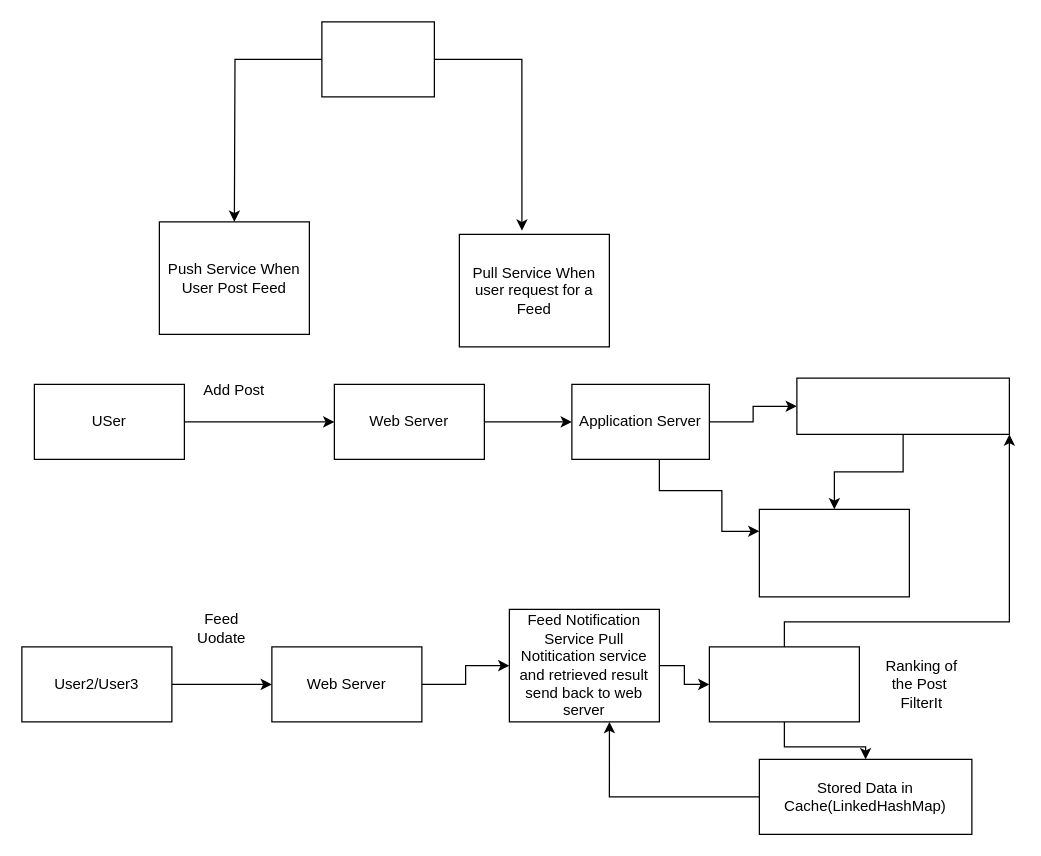
The diagram is 1041 pixels wide and 856 high, and some of its shapes have lost their labels. The box of each missing label's shape, as (x1, y1, x2, y2) in pixels:
DB Which Stores Metadata: (796, 377, 1009, 434)
Feed Notification Service: (321, 21, 434, 97)
New Feed Generation: (708, 646, 859, 722)
Storage Service Stored the data: (758, 508, 909, 597)
